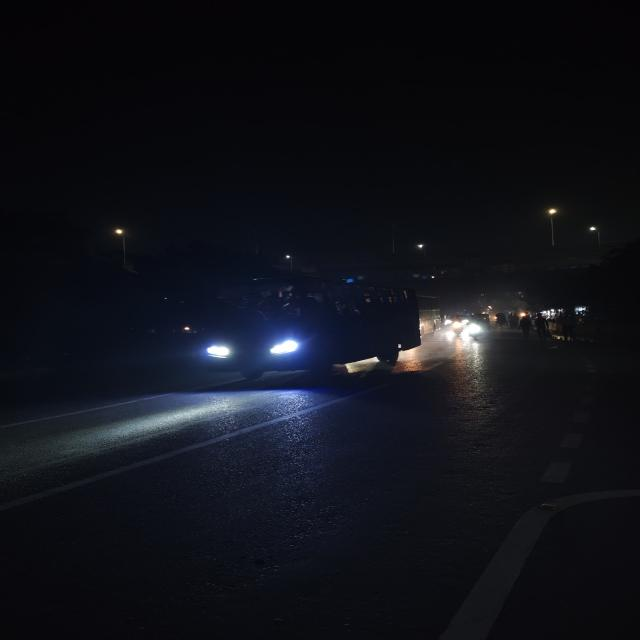bus: (163, 277, 430, 388)
motorcycle: (465, 316, 486, 345), (450, 316, 468, 341)
pedestrian: (555, 312, 579, 343), (532, 314, 550, 340), (518, 315, 534, 337)
rickshaw: (494, 312, 509, 331)
